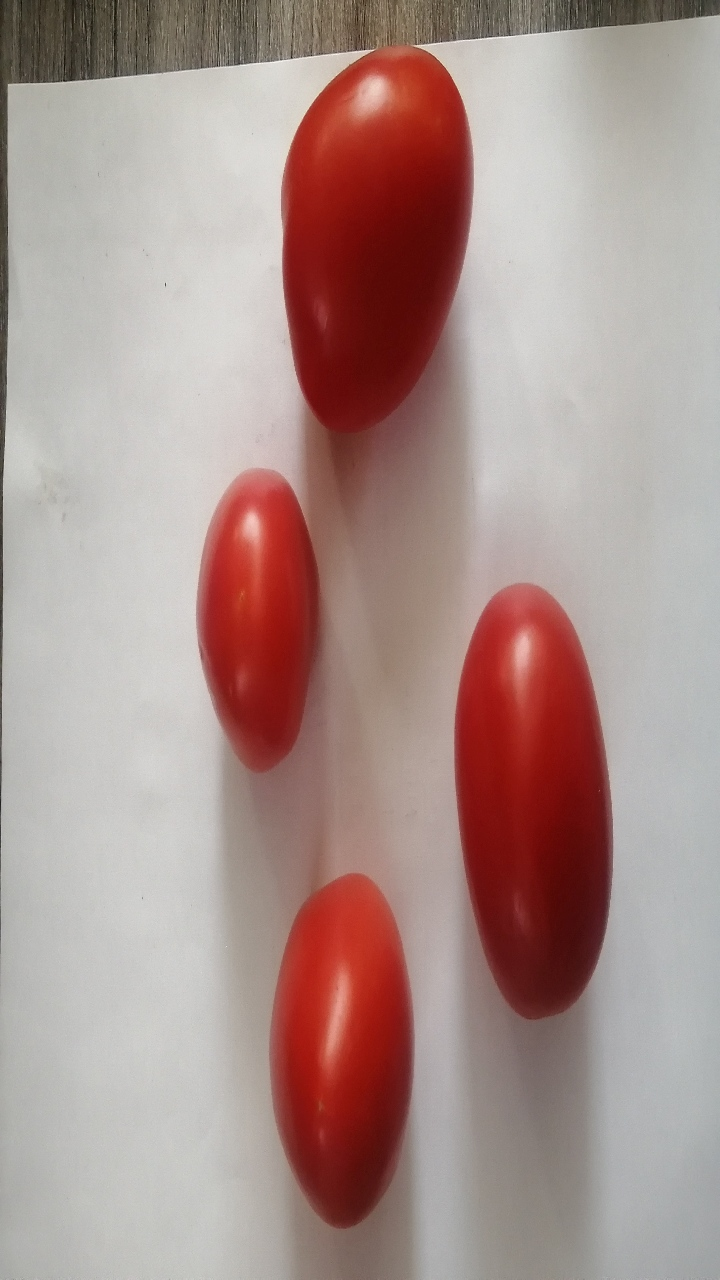tomateRojo: (229, 25, 500, 460), (431, 568, 640, 1039), (238, 854, 466, 1246), (154, 448, 337, 777)
